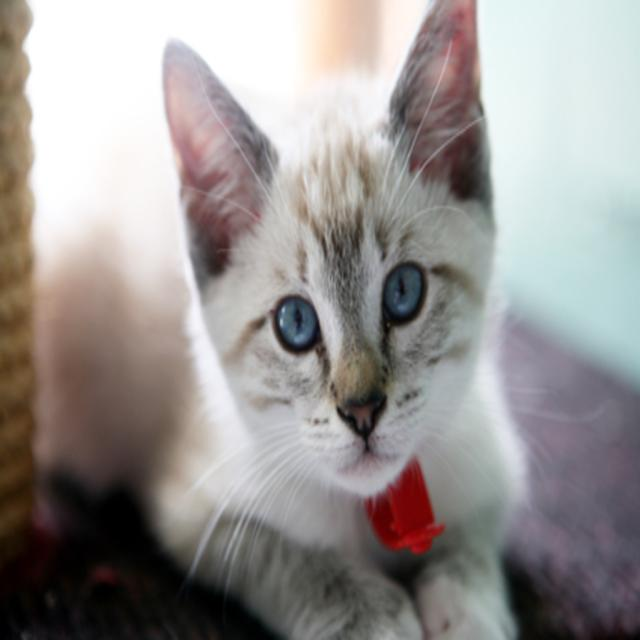Cat: (22, 0, 604, 639)
